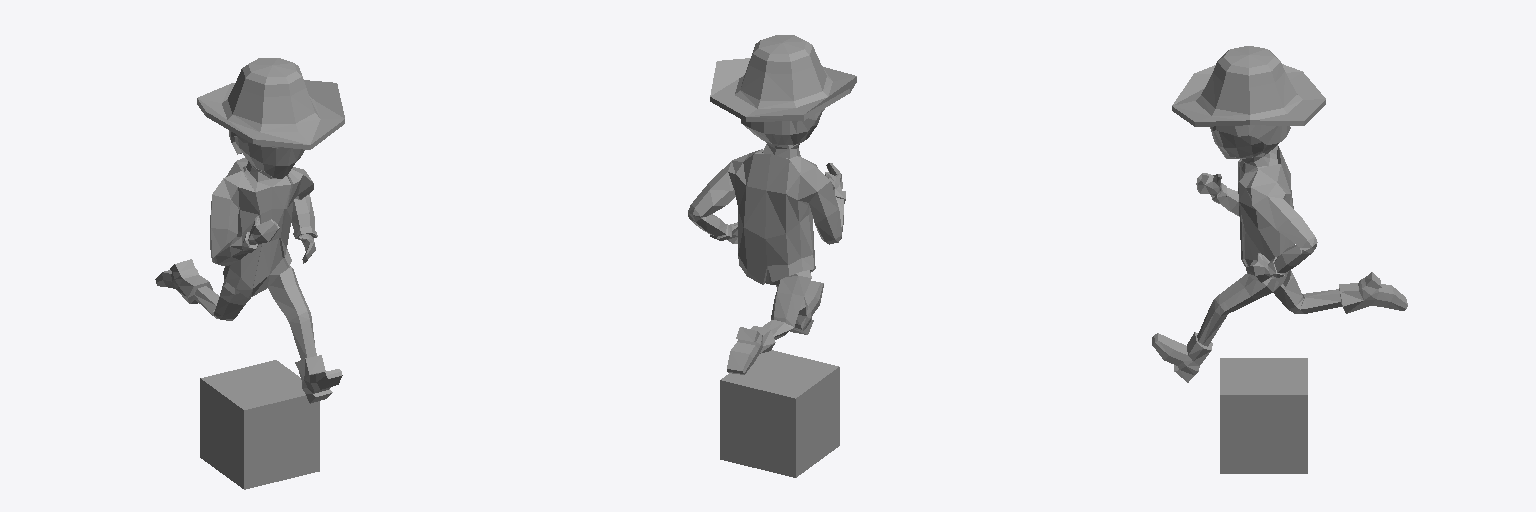
Rendered from character.obj.
3 views of the same model, side by side, from view 1: azimuth 30°, elevation 25°; view 2: azimuth 150°, elevation 25°; view 3: azimuth 270°, elevation 25° (orthographic).
Visible parts, largest first — view 1: Cube.001, Cube; view 2: Cube.001, Cube; view 3: Cube.001, Cube.
Boxes of the visible parts, <box> form: Cube.001: <box>155,58,344,403</box>; Cube: <box>200,360,319,489</box>; Cube.001: <box>688,35,856,374</box>; Cube: <box>720,350,839,477</box>; Cube.001: <box>1152,46,1407,382</box>; Cube: <box>1220,358,1307,473</box>.
Bounding box in the file's own units: 3.49 × 10.16 × 5.85.